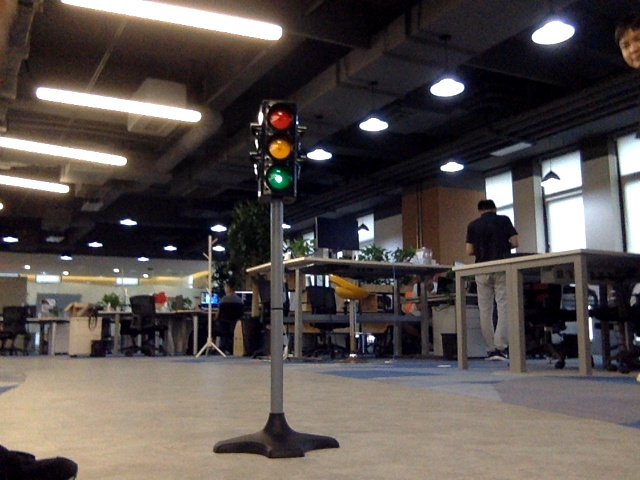green: (265, 106, 290, 192)
